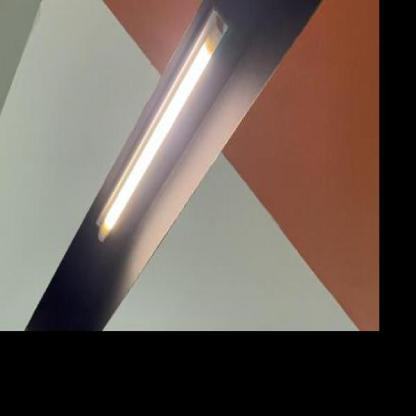light_on: (88, 0, 236, 251)
